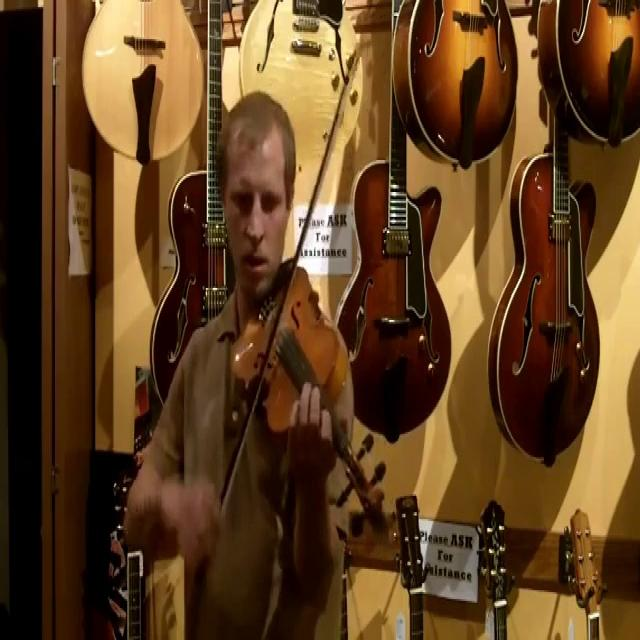Guitar: (329, 0, 467, 460), (478, 113, 609, 472), (141, 4, 229, 421), (383, 4, 522, 192), (78, 0, 211, 178), (534, 0, 640, 158)
Violin: (226, 243, 400, 541)
